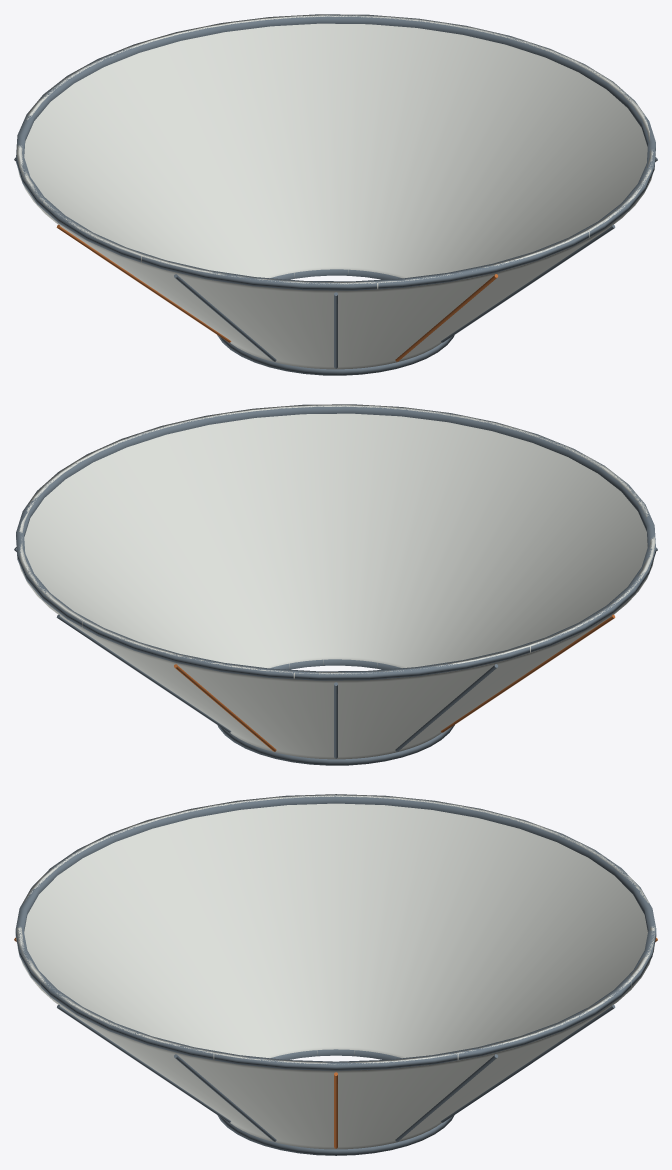
File: jugre_adapter_250_660.glb
The picture shows the model from 3 angles, top to bottom: view 1: azimuth 30°, elevation 25°; view 2: azimuth 150°, elevation 25°; view 3: azimuth 270°, elevation 25°; orthographic projection.
Visible parts, largest first — view 1: jugre_adapter_250_660.mesh_Pale_thermal_blanket, jugre_adapter_250_660.mesh_Machined_steel, jugre_adapter_250_660.mesh_Spray-on_insulation; view 2: jugre_adapter_250_660.mesh_Pale_thermal_blanket, jugre_adapter_250_660.mesh_Machined_steel, jugre_adapter_250_660.mesh_Spray-on_insulation; view 3: jugre_adapter_250_660.mesh_Pale_thermal_blanket, jugre_adapter_250_660.mesh_Machined_steel.
Part boxes in pixels (box(x1,y1,x2,y2)): jugre_adapter_250_660.mesh_Pale_thermal_blanket: box(16, 14, 653, 369); jugre_adapter_250_660.mesh_Machined_steel: box(14, 14, 657, 375); jugre_adapter_250_660.mesh_Spray-on_insulation: box(56, 224, 497, 361); jugre_adapter_250_660.mesh_Pale_thermal_blanket: box(18, 404, 655, 759); jugre_adapter_250_660.mesh_Machined_steel: box(14, 404, 657, 765); jugre_adapter_250_660.mesh_Spray-on_insulation: box(174, 614, 615, 751); jugre_adapter_250_660.mesh_Pale_thermal_blanket: box(16, 794, 655, 1149); jugre_adapter_250_660.mesh_Machined_steel: box(15, 794, 656, 1155).
Bounding box in the file's own units: 6.66 × 1.99 × 6.66.
